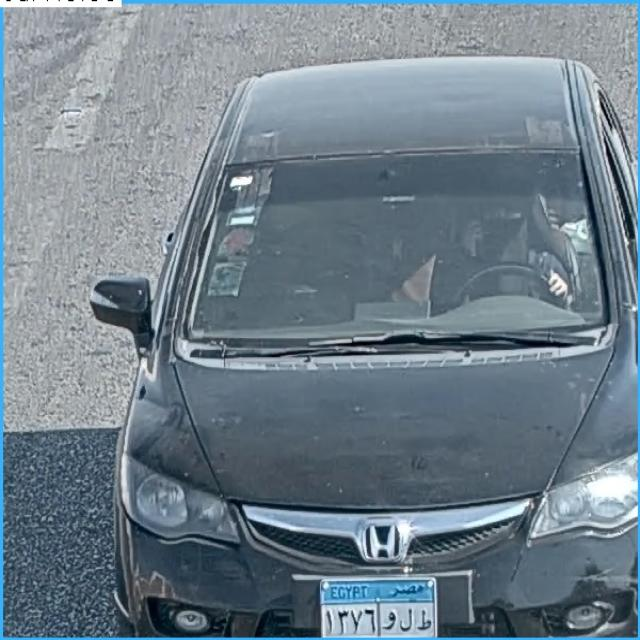windshield: (178, 157, 615, 336)
